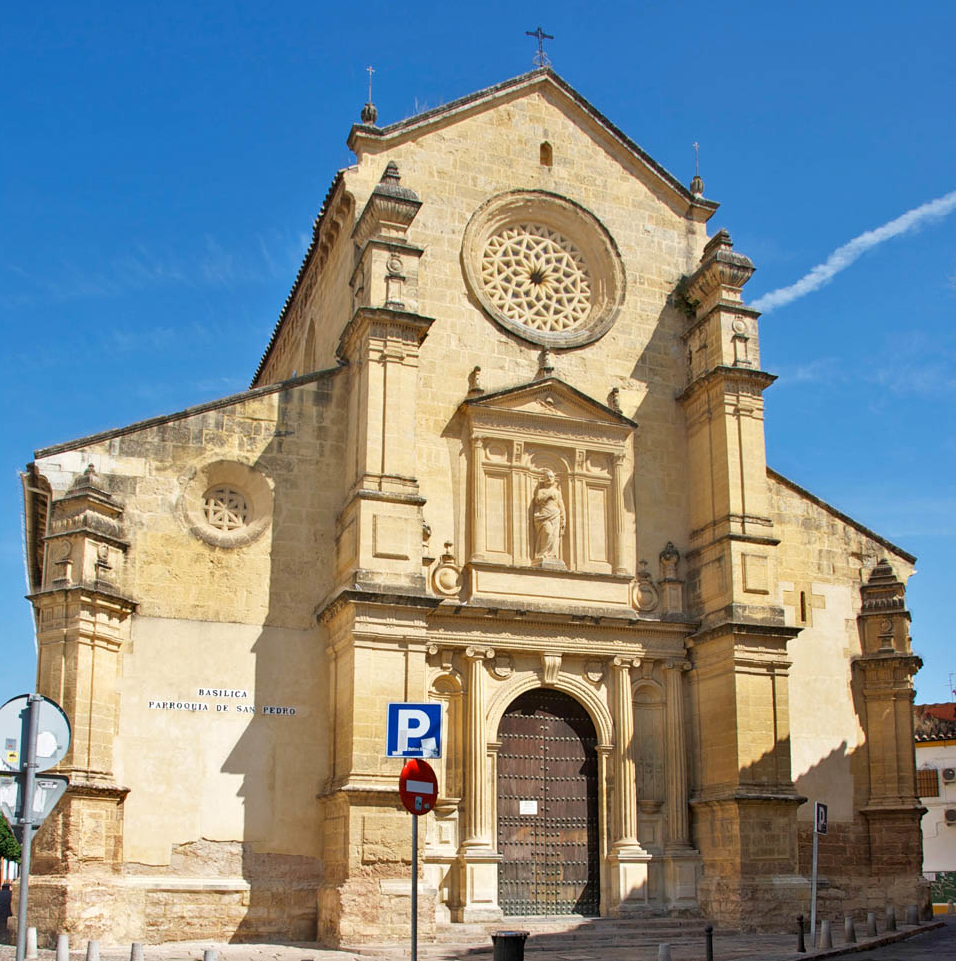arco-medio-punto: (481, 670, 618, 755)
fronton: (458, 375, 642, 433)
serliana: (474, 447, 619, 563)
